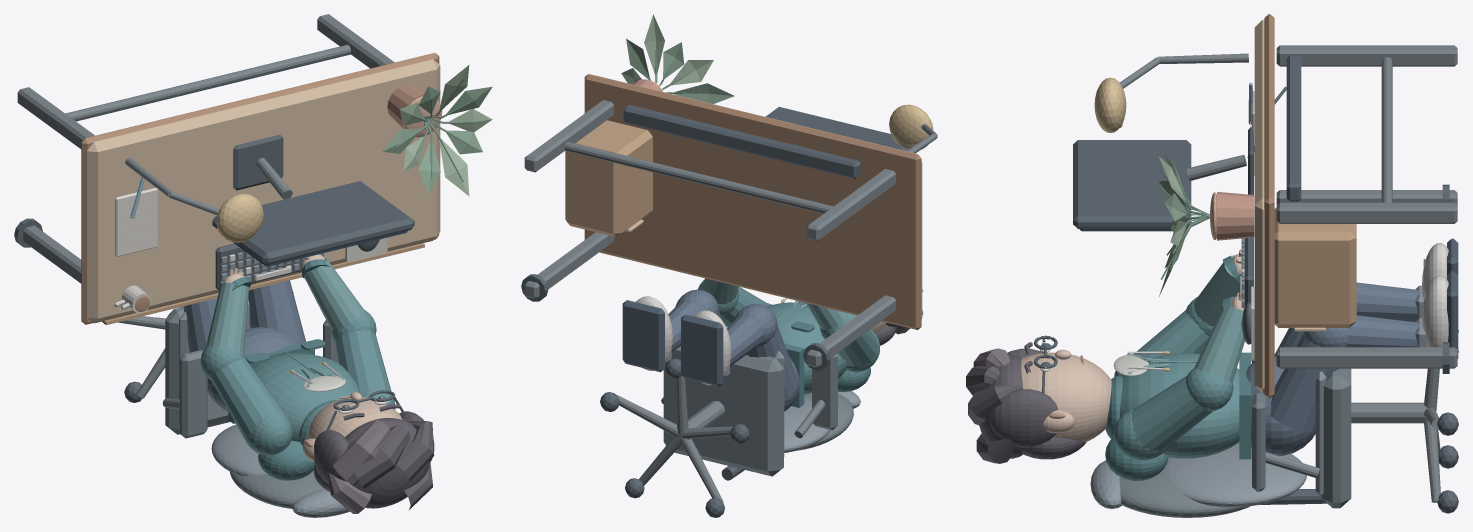
Rendered from 01_workstation_typing.glb.
3 renders of one model, left to right at view 1: azimuth 30°, elevation 25°; view 2: azimuth 150°, elevation 25°; view 3: azimuth 270°, elevation 25°, orthographic. The views are drawn at different scales.
Parts seen in each view (by area): view 1: 0000__desk_solid_oak_top, 0014__monitor_27_bezel, 0147__hoodie_main_torso, 0001__desk_beveled_oak_rim, 0009__crossbar, 0214__sleeve_upper, 0089__notebook, 0223__sleeve_upper, 0203__jeans_thigh, 0225__sleeve_forearm, 0216__sleeve_forearm, 0144__armrest_cushion (+33 smaller); view 2: 0001__desk_beveled_oak_rim, 0136__chair_base_seat, 0011__drawer_shell, 0010__cable_management, 0009__crossbar, 0198__rubber_sole, 0208__rubber_sole, 0004__powder_coated_leg, 0006__powder_coated_leg, 0147__hoodie_main_torso, 0003__powder_coated_leg, 0014__monitor_27_bezel (+30 smaller); view 3: 0014__monitor_27_bezel, 0011__drawer_shell, 0139__lumbar_support, 0147__hoodie_main_torso, 0164__face_head, 0001__desk_beveled_oak_rim, 0000__desk_solid_oak_top, 0006__powder_coated_leg, 0136__chair_base_seat, 0005__powder_coated_leg, 0004__powder_coated_leg, 0223__sleeve_upper (+38 smaller).
Boxes of the visible parts, x1,y1,x2,y2 form: 0000__desk_solid_oak_top: [86, 59, 440, 323]; 0014__monitor_27_bezel: [212, 181, 414, 265]; 0147__hoodie_main_torso: [252, 353, 359, 441]; 0001__desk_beveled_oak_rim: [81, 53, 439, 324]; 0009__crossbar: [65, 44, 351, 121]; 0214__sleeve_upper: [211, 358, 283, 440]; 0089__notebook: [115, 187, 158, 256]; 0223__sleeve_upper: [335, 329, 391, 393]; 0203__jeans_thigh: [248, 280, 305, 342]; 0225__sleeve_forearm: [304, 258, 363, 330]; 0216__sleeve_forearm: [206, 282, 249, 352]; 0144__armrest_cushion: [180, 350, 207, 438]; 0001__desk_beveled_oak_rim: [584, 74, 921, 329]; 0136__chair_base_seat: [663, 346, 783, 476]; 0011__drawer_shell: [565, 120, 652, 237]; 0010__cable_management: [623, 105, 860, 178]; 0009__crossbar: [564, 141, 833, 213]; 0198__rubber_sole: [681, 314, 723, 386]; 0208__rubber_sole: [622, 300, 664, 372]; 0004__powder_coated_leg: [806, 169, 895, 241]; 0006__powder_coated_leg: [524, 100, 613, 172]; 0147__hoodie_main_torso: [766, 302, 847, 394]; 0003__powder_coated_leg: [806, 295, 895, 367]; 0014__monitor_27_bezel: [765, 107, 907, 150]; 0014__monitor_27_bezel: [1073, 140, 1191, 228]; 0011__drawer_shell: [1274, 207, 1356, 327]; 0139__lumbar_support: [1168, 442, 1306, 507]; 0147__hoodie_main_torso: [1120, 353, 1239, 458]; 0164__face_head: [1021, 352, 1111, 442]; 0001__desk_beveled_oak_rim: [1264, 14, 1274, 398]; 0000__desk_solid_oak_top: [1254, 19, 1264, 393]; 0006__powder_coated_leg: [1276, 202, 1457, 223]; 0136__chair_base_seat: [1322, 368, 1351, 508]; 0005__powder_coated_leg: [1276, 347, 1457, 368]; 0004__powder_coated_leg: [1276, 45, 1457, 66]; 0223__sleeve_upper: [1131, 375, 1212, 452].
Bounding box in the file's own units: 1.7 × 1.79 × 1.85.
